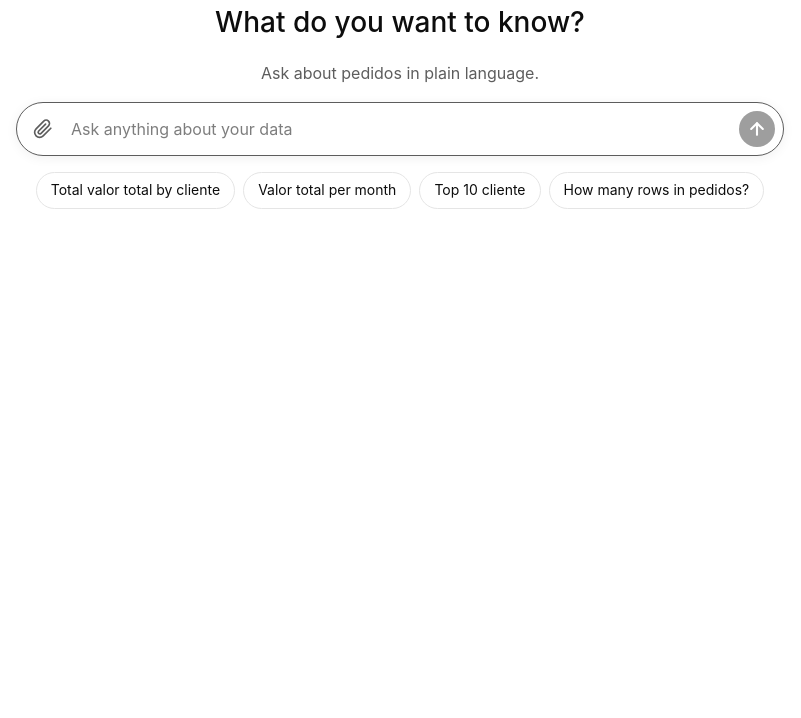
ChatView › notes when a table was truncated
Type "Quanto cada cliente gastou?" into the text box named "Question".
click(400, 129); type("Quanto cada cliente gastou?")  # box [67,111,733,147]
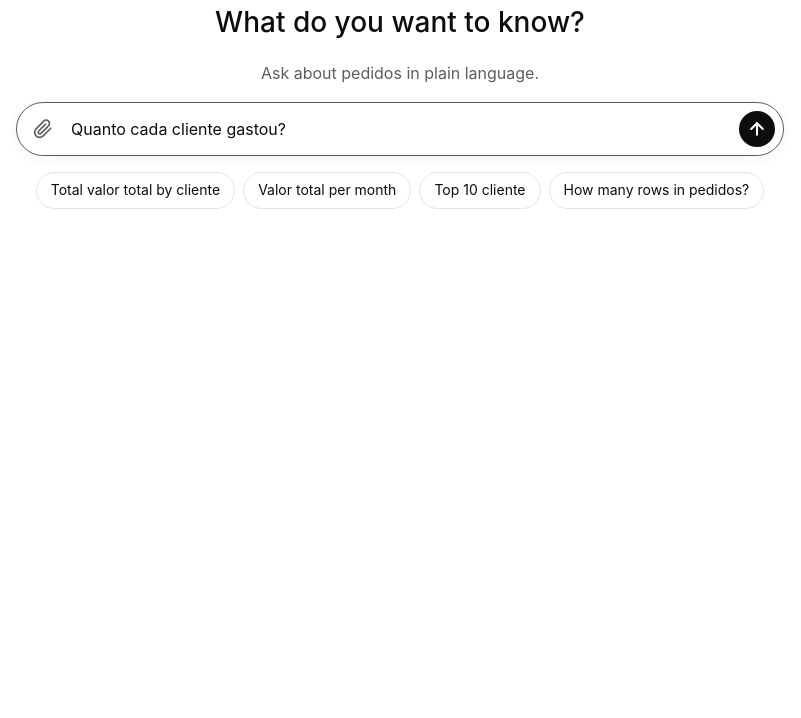
Click the button named "Send".
click(757, 129)  # box [739,111,775,147]
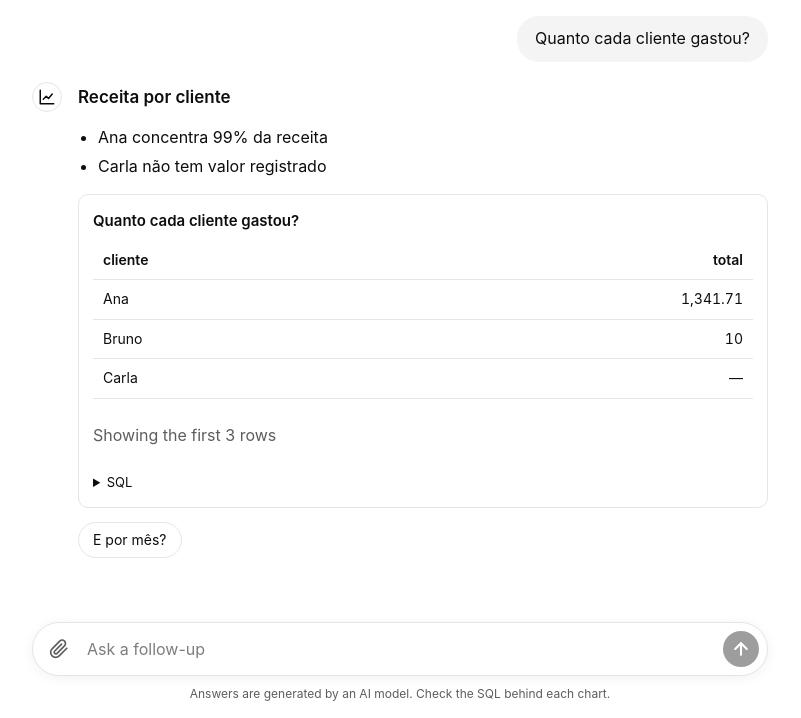
Result: the text "Showing the first 3 rows" is shown at [93,424,276,444]
